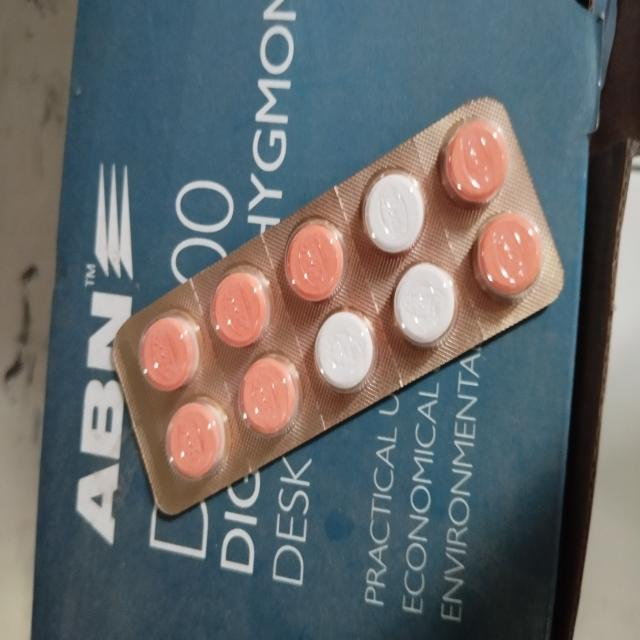B3: (112, 95, 565, 519)
